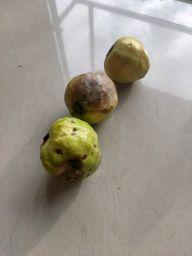guava: (32, 116, 107, 184), (60, 70, 120, 122), (100, 37, 153, 84)
